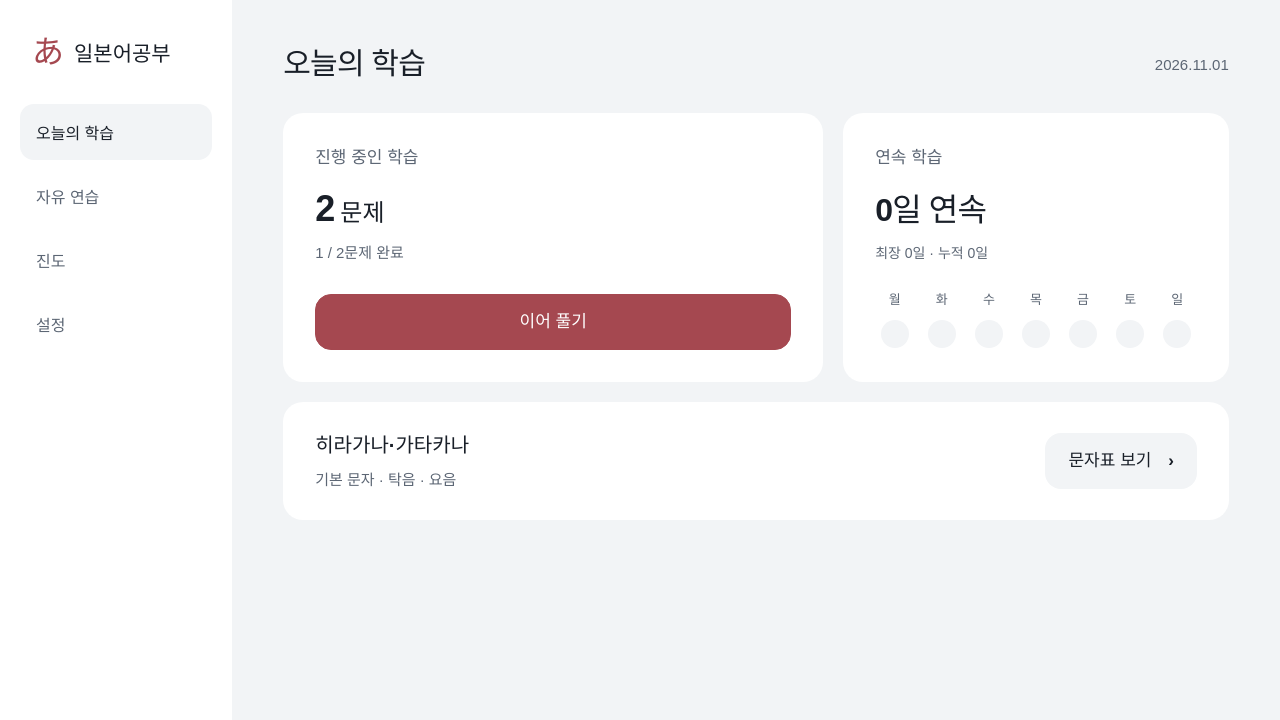
app navigation › resumes a saved set at its saved question index
The image size is (1280, 720).
Click the button "이어 풀기" at (553, 322), box x1=315 y1=294 x2=791 y2=350
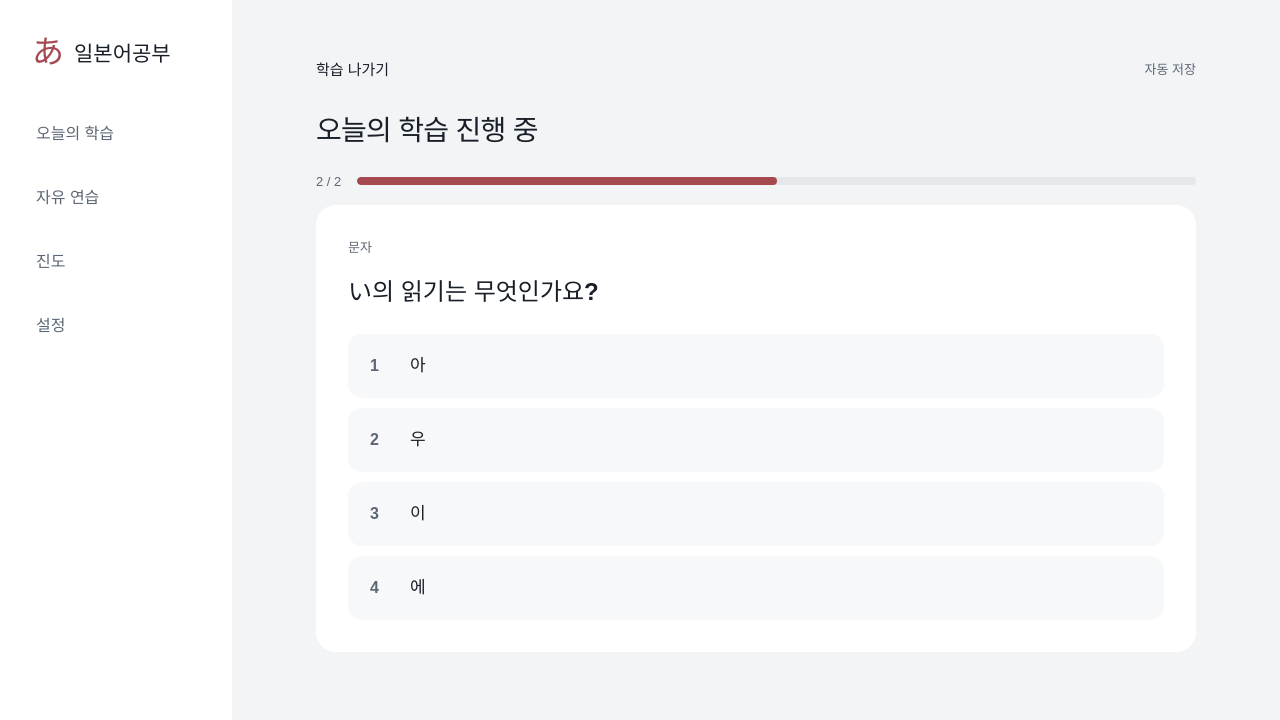
Now the heading "い의 읽기는 무엇인가요?" is shown, box x1=348 y1=278 x2=599 y2=305
